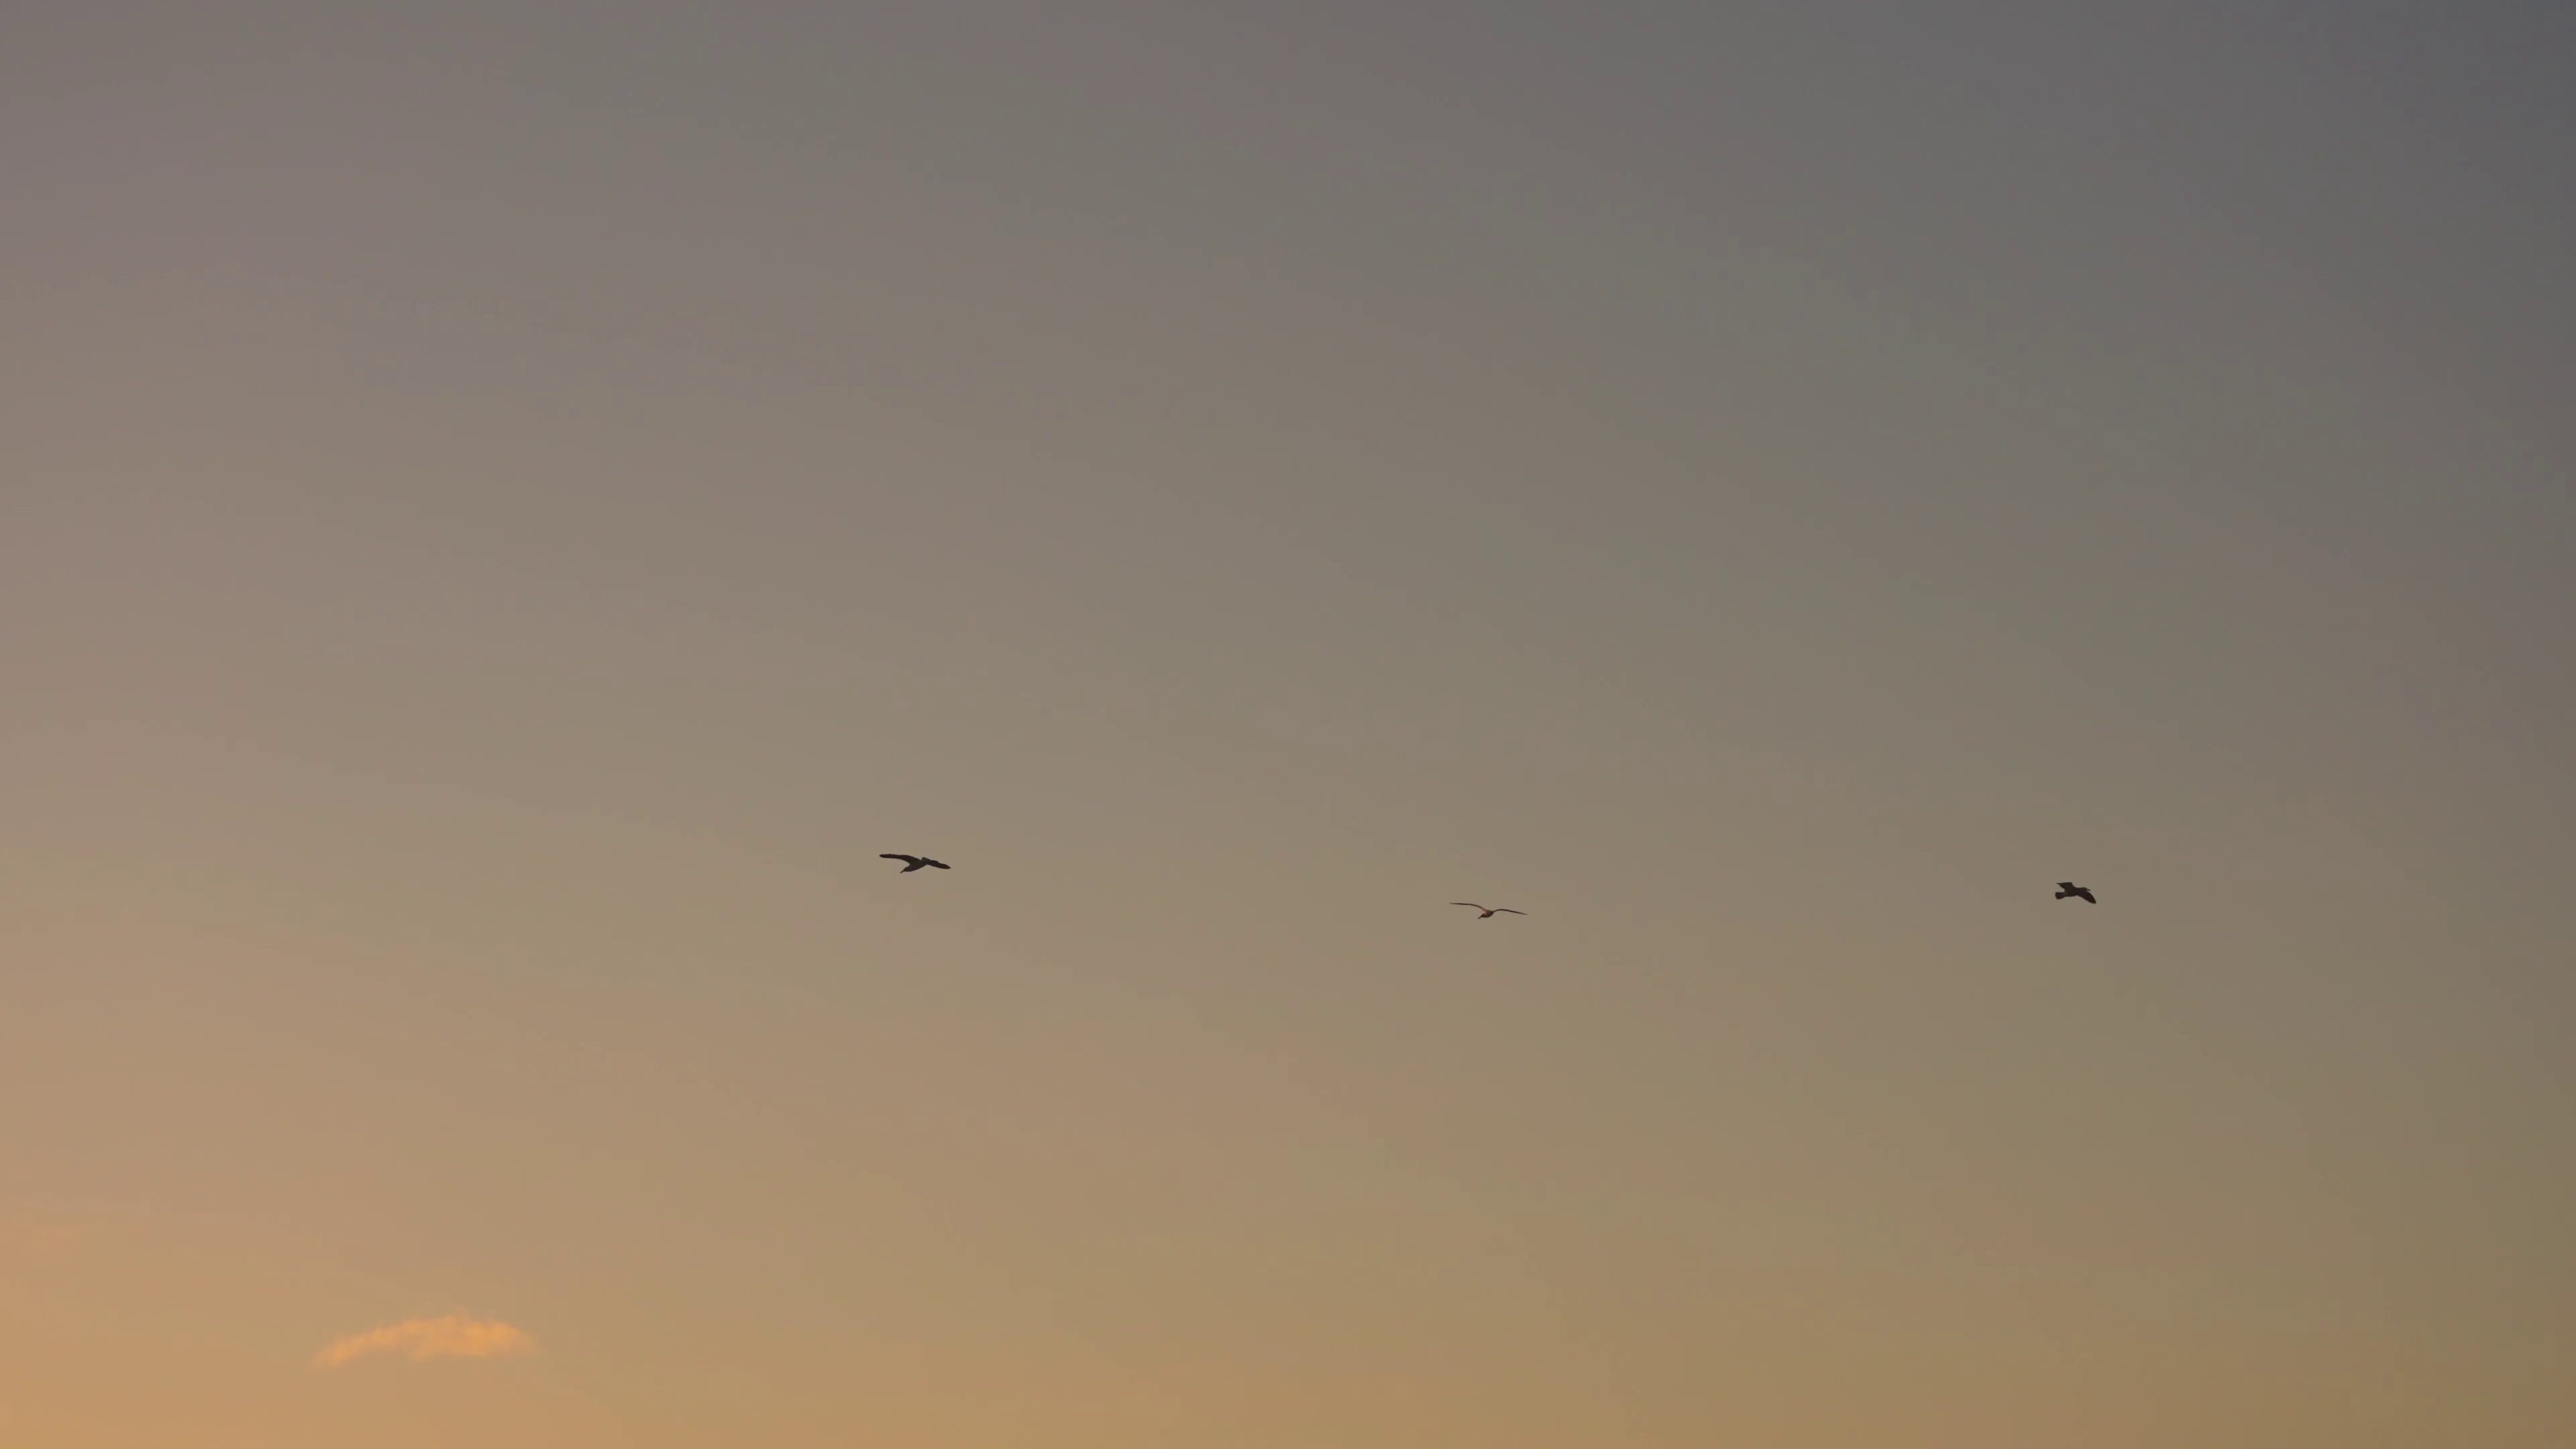bird: (879, 849, 952, 876), (1451, 902, 1527, 918), (2054, 879, 2097, 904)
